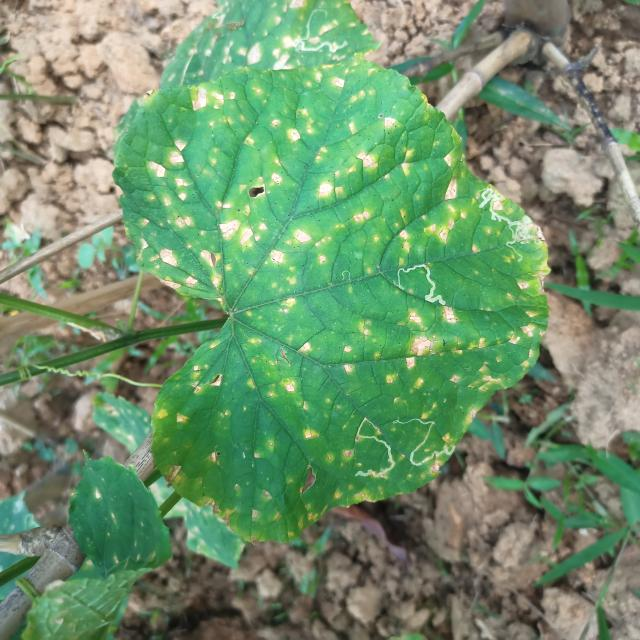disease_cucumber: (139, 72, 543, 522)
